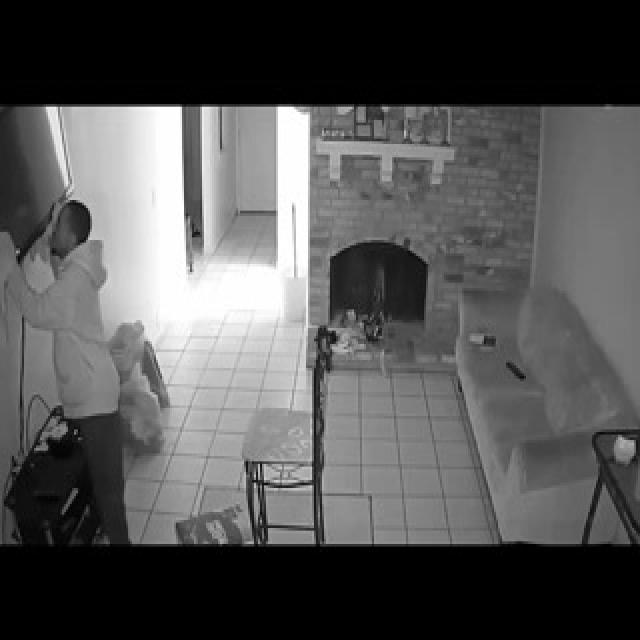thief: (32, 183, 144, 335)
